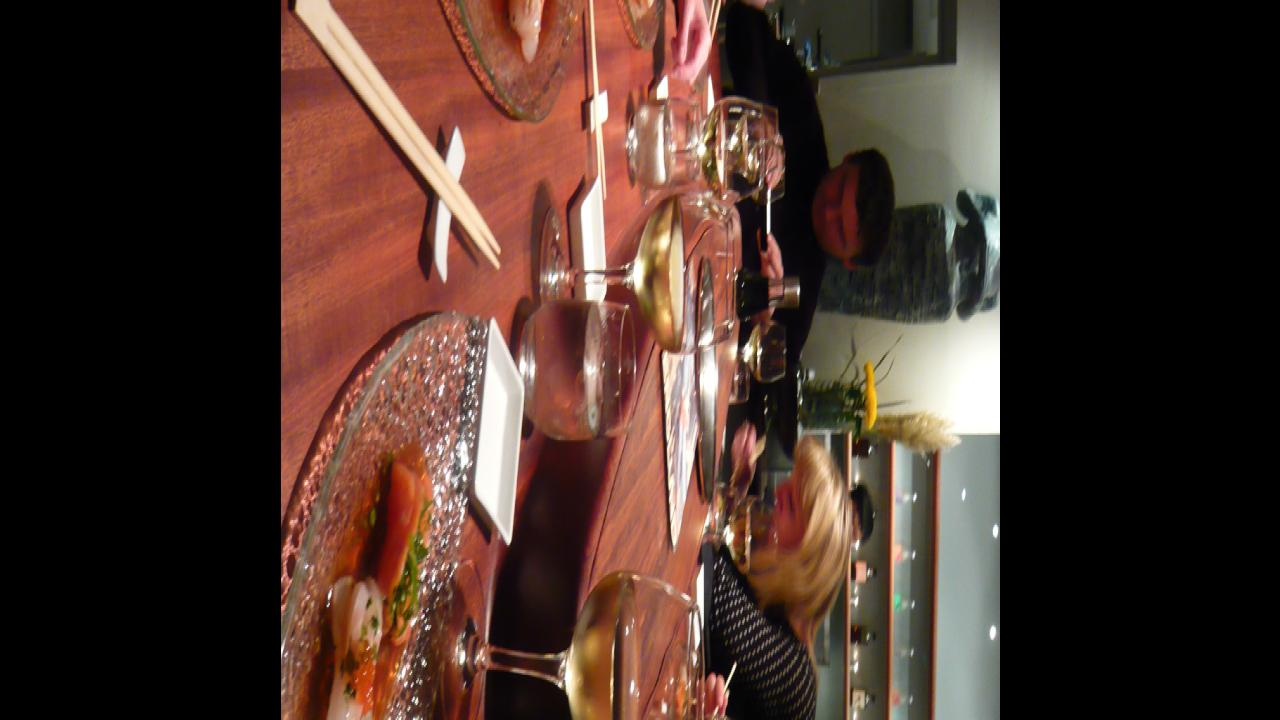chopstick: (287, 0, 501, 272), (577, 0, 606, 196), (704, 0, 723, 50)
